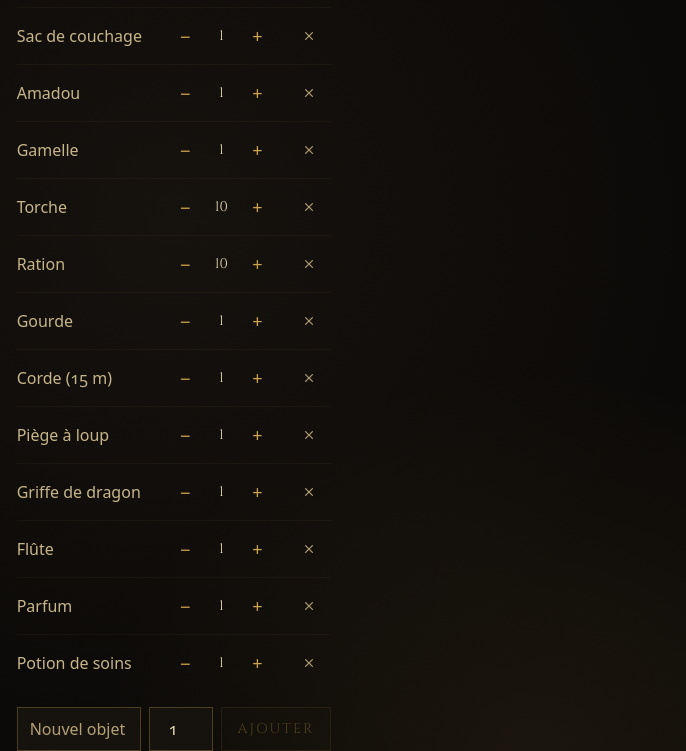
it: CodexInventory › ajoute un objet via le formulaire et l'enregistre
(page scrolled)
Type "Lanterne" into the field with placeholder "Nouvel objet" at (79,729), box [17, 707, 141, 750]
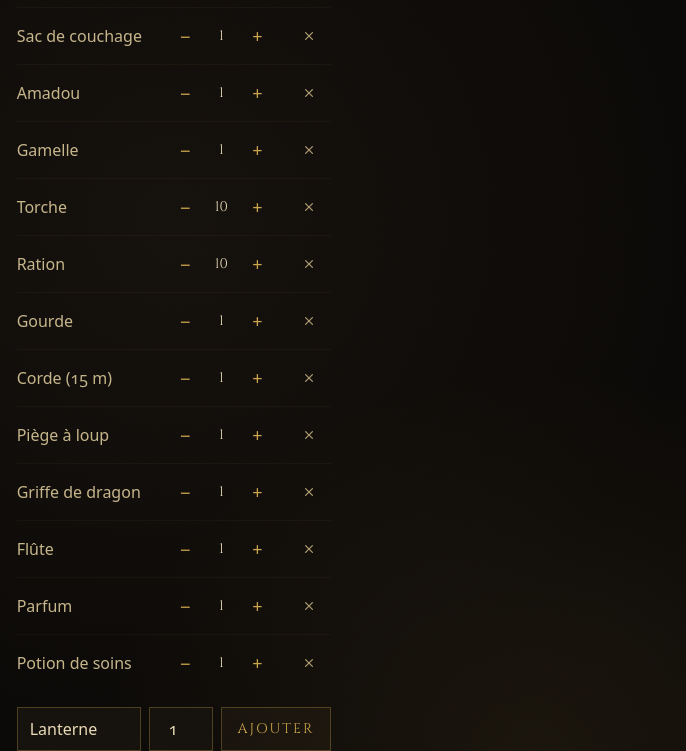
Submit the form, box [17, 707, 331, 750]
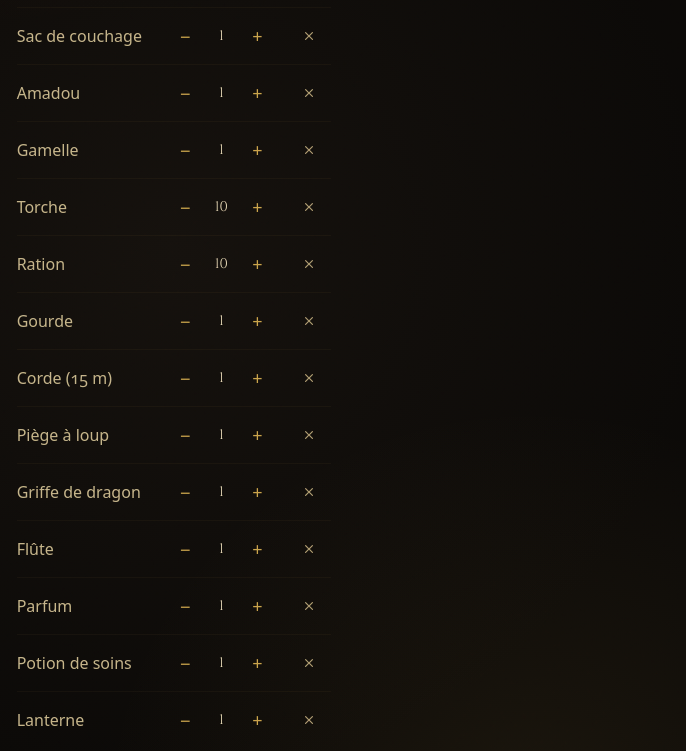
Now the list item "Lanterne − 1 +" is shown, box [17, 692, 331, 748]
